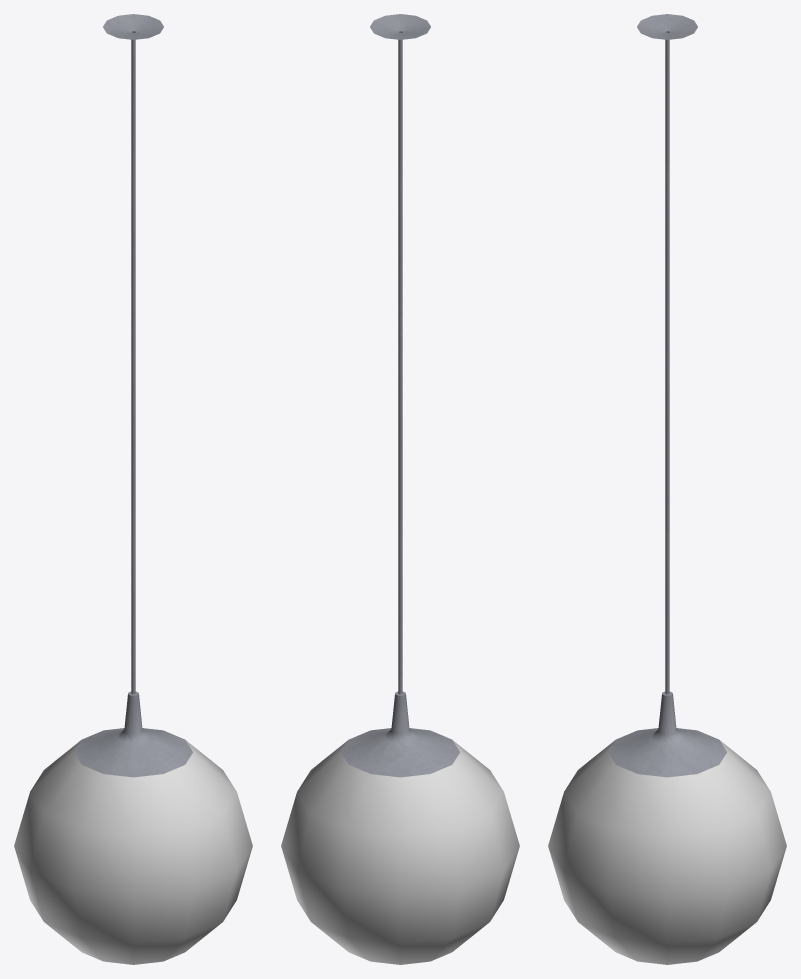
File: LGSeochoB1LightRestArea.fbx
The picture shows the model from 3 angles, left to right: view 1: azimuth 30°, elevation 25°; view 2: azimuth 150°, elevation 25°; view 3: azimuth 270°, elevation 25°; orthographic projection.
Visible parts, largest first — view 1: LGSeochoB1LightHead, LGSeochoB1LightMetal; view 2: LGSeochoB1LightHead, LGSeochoB1LightMetal; view 3: LGSeochoB1LightHead, LGSeochoB1LightMetal.
Boxes of the visible parts, <box> form: LGSeochoB1LightHead: <box>14,740,252,964</box>; LGSeochoB1LightMetal: <box>74,14,192,777</box>; LGSeochoB1LightHead: <box>281,740,519,964</box>; LGSeochoB1LightMetal: <box>341,14,459,777</box>; LGSeochoB1LightHead: <box>548,740,786,964</box>; LGSeochoB1LightMetal: <box>608,14,726,777</box>.
Bounding box in the file's own units: 30 × 128 × 30.
2 materials, 1 textured.
